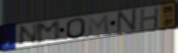H: (139, 6, 160, 31)
M: (35, 19, 63, 45), (87, 13, 111, 37)
N: (17, 22, 39, 48), (116, 8, 138, 34)
O: (66, 17, 87, 40)
